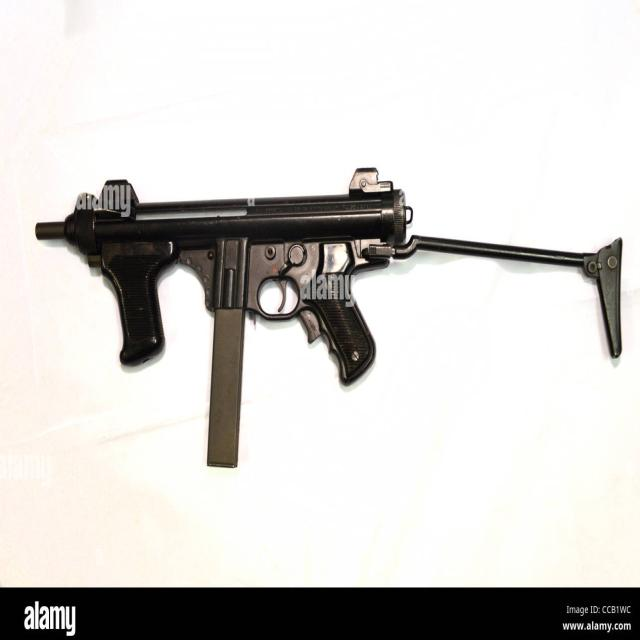Weapon: (35, 168, 621, 467)
